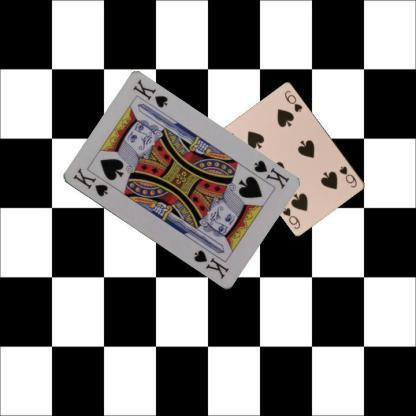6s: (336, 163, 358, 189)
Ks: (250, 157, 290, 190), (70, 166, 110, 198)
